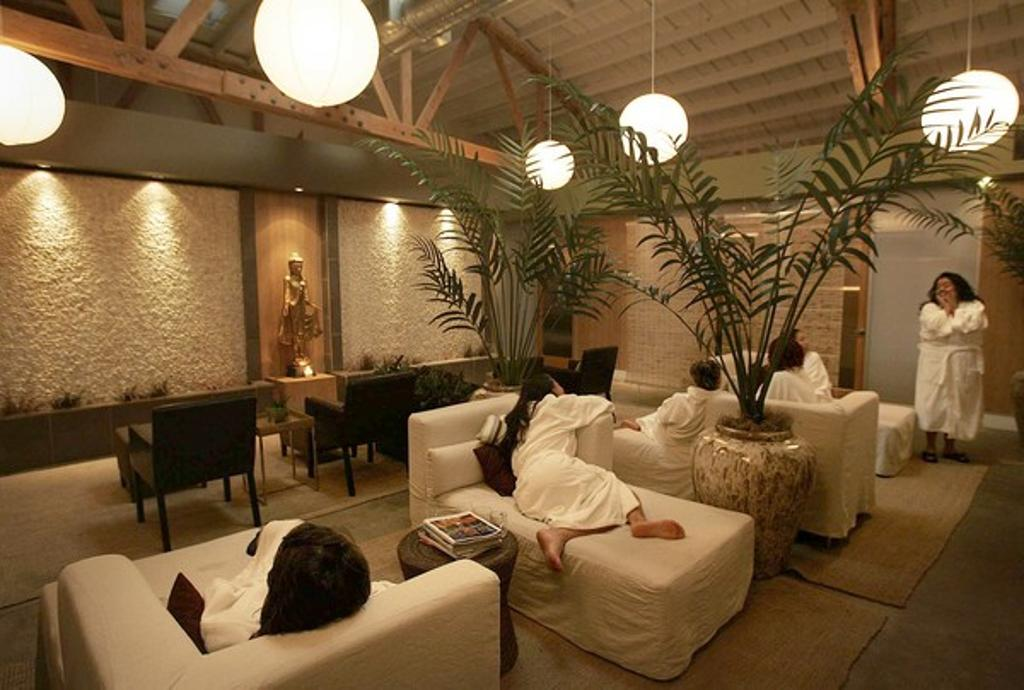face: (935, 276, 955, 300), (793, 332, 808, 354)
